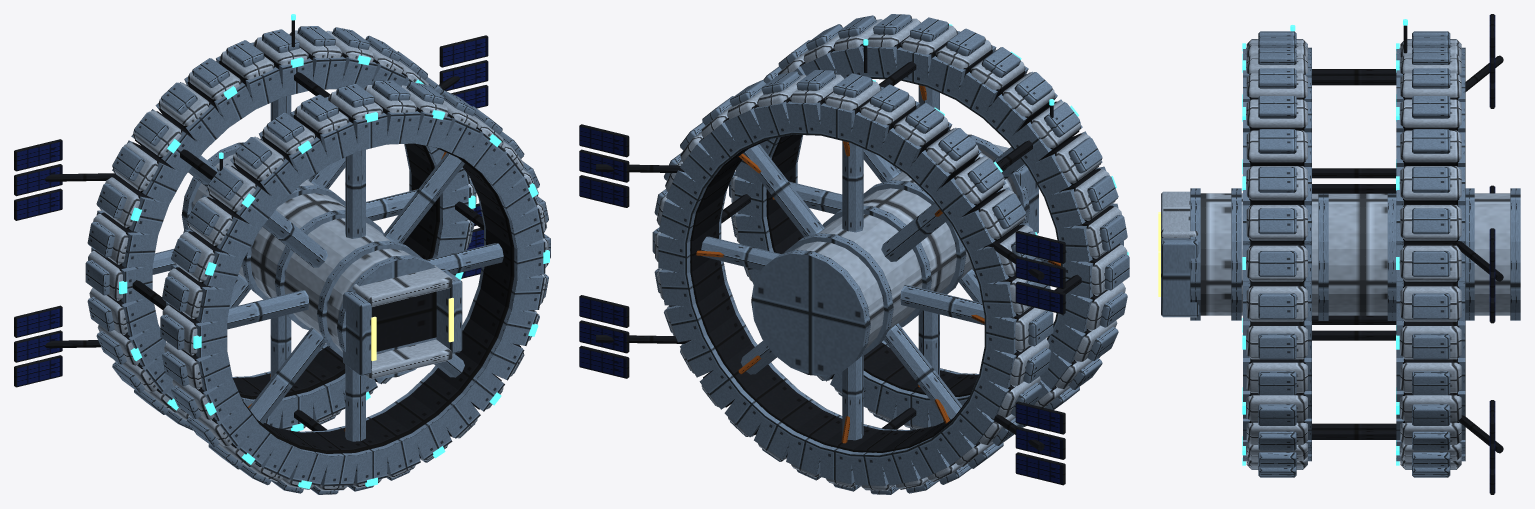
The model's file is estacao-galatica.glb.
3 views of the same model, side by side, from view 1: azimuth 30°, elevation 25°; view 2: azimuth 150°, elevation 25°; view 3: azimuth 270°, elevation 25° (orthographic). The views are drawn at different scales.
Visible parts, largest first — view 1: Painel externo, Blindagem chanfrada do anel, Segmento estrutural do anel, Painel solar quadriculado, Luz de posição; view 2: Painel externo, Blindagem chanfrada do anel, Segmento estrutural do anel, Painel solar quadriculado, Radiador de segmento; view 3: Blindagem chanfrada do anel, Painel externo, Segmento estrutural do anel, Painel solar quadriculado, Luz de posição.
Boxes of the visible parts, x1,y1,x2,y2 form: Painel externo: (85,26,550,494); Blindagem chanfrada do anel: (88,30,548,490); Segmento estrutural do anel: (14,20,542,482); Painel solar quadriculado: (17,37,487,386); Luz de posição: (119,14,549,488); Painel externo: (652,14,1129,494); Blindagem chanfrada do anel: (655,18,1127,490); Segmento estrutural do anel: (579,35,1120,485); Painel solar quadriculado: (579,126,1062,484); Radiador de segmento: (696,85,1060,443); Blindagem chanfrada do anel: (1161,39,1510,469); Painel externo: (1161,31,1520,477); Segmento estrutural do anel: (1249,14,1503,494); Painel solar quadriculado: (1489,15,1495,492); Luz de posição: (1242,19,1407,465).
Bounding box in the file's own units: 220 × 188 × 142.
7 materials, 5 textured.
